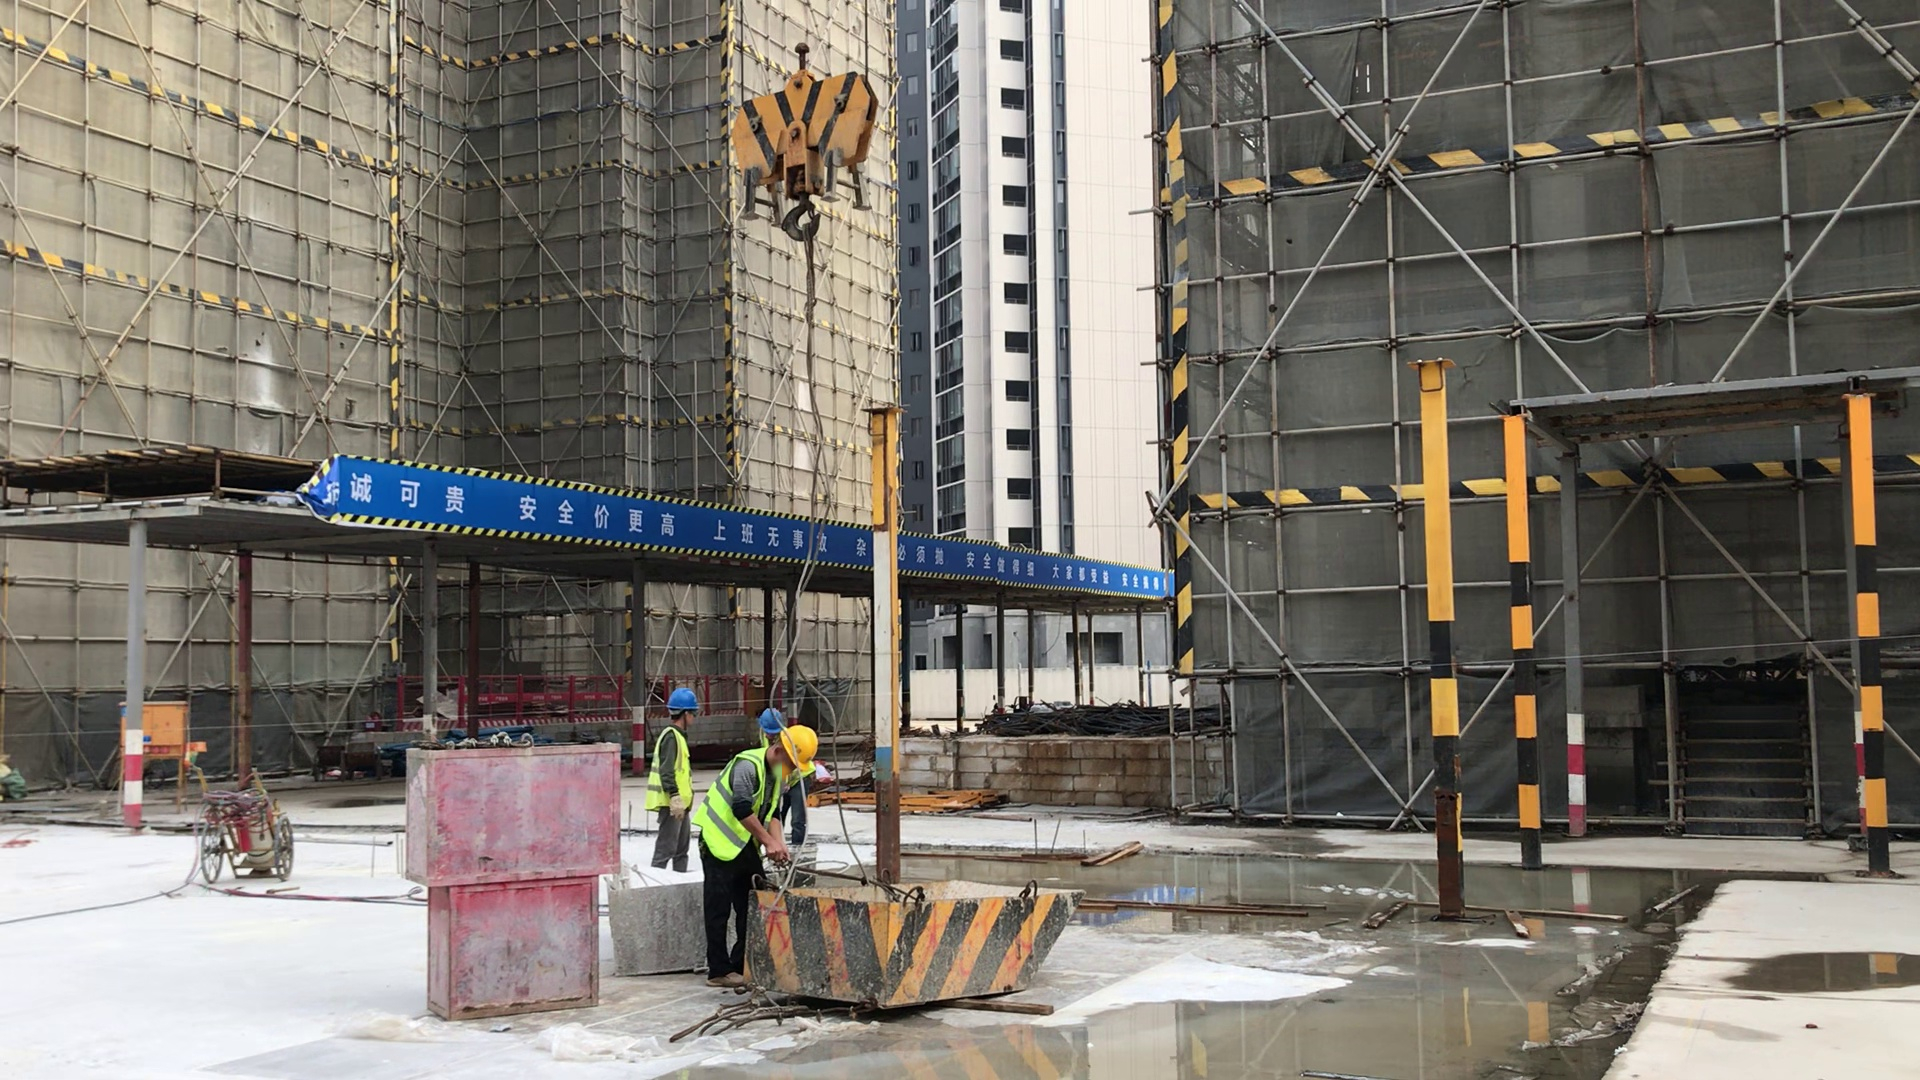ebox: (147, 699, 189, 818)
fence: (343, 465, 865, 561), (904, 541, 1162, 594), (484, 671, 622, 726), (702, 676, 747, 719)
handcart: (192, 760, 302, 885)
helmet: (780, 726, 820, 771), (667, 688, 701, 719), (757, 708, 782, 733)
hook: (724, 37, 888, 261)
hopper: (766, 875, 1099, 1002), (608, 868, 706, 982)
person: (691, 724, 821, 990), (645, 687, 697, 874)
vest: (693, 747, 781, 861), (646, 726, 692, 813)
